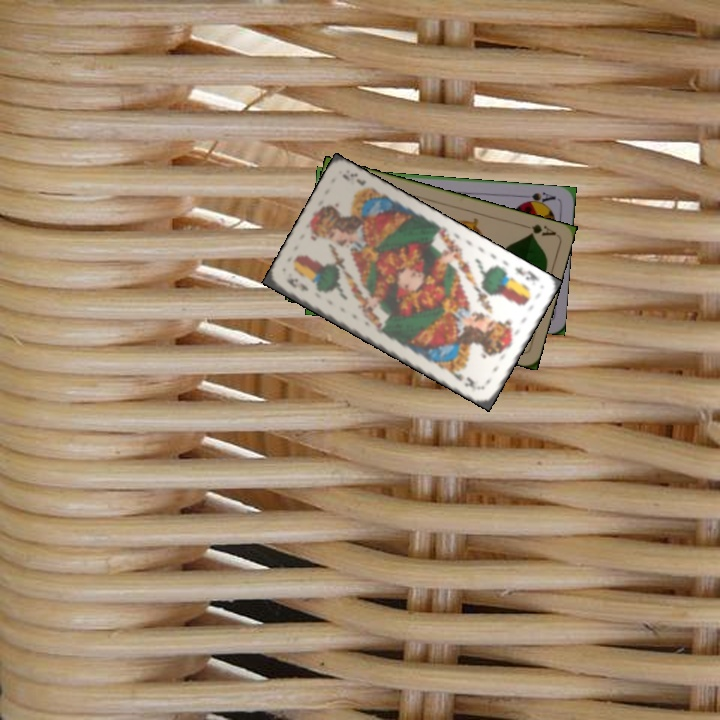EK: (511, 263, 542, 284), (283, 274, 311, 294)
GA: (518, 220, 558, 239)
SA: (518, 188, 558, 208)
